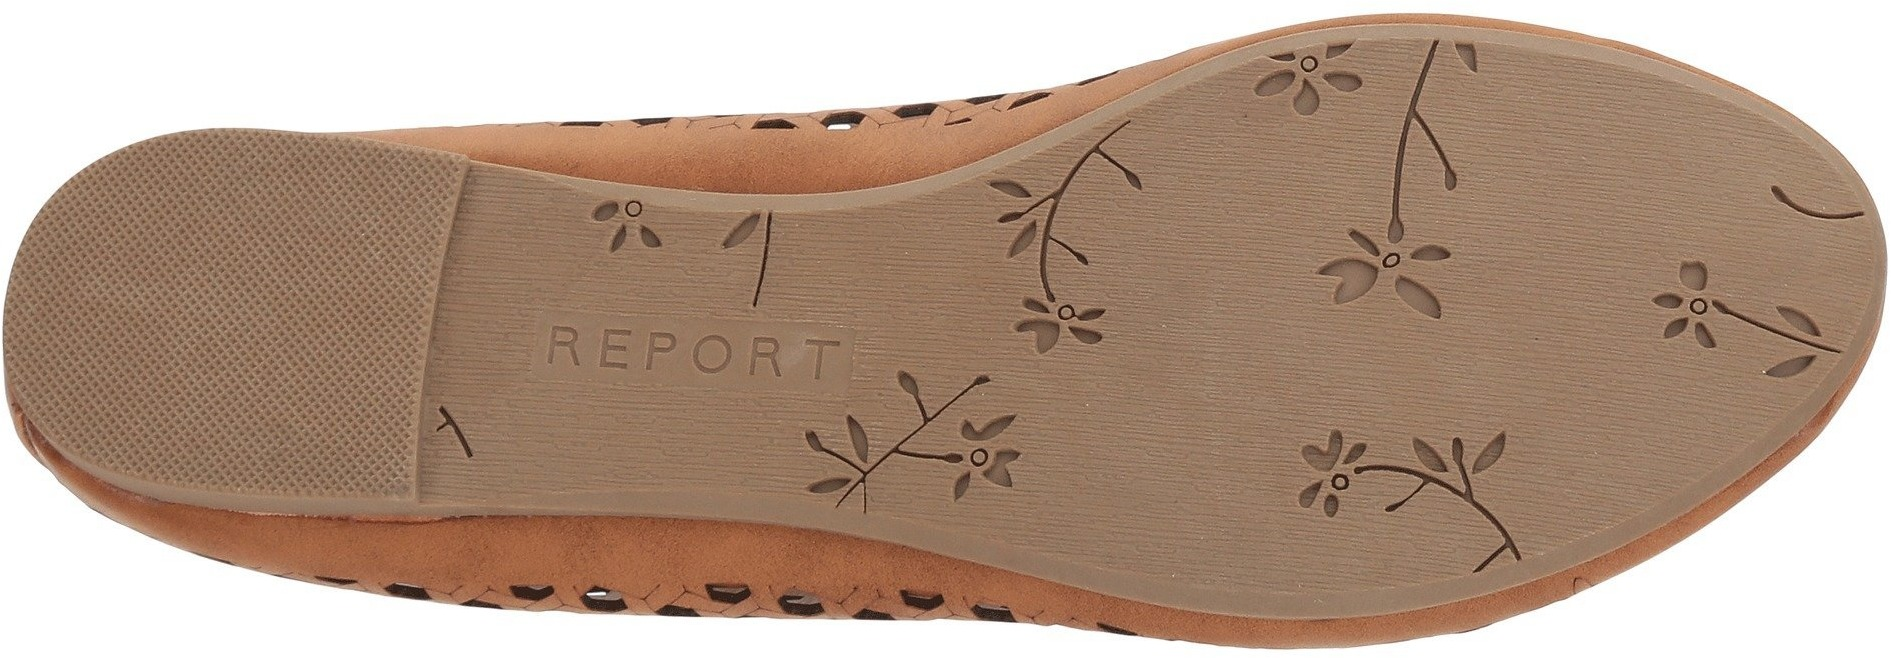circle: (523, 298, 866, 421), (1292, 417, 1456, 580), (1298, 198, 1454, 348)
exclude: (415, 135, 865, 562)
line: (1292, 417, 1456, 580)
other: (1049, 362, 1276, 584), (1459, 83, 1678, 269), (222, 147, 427, 334), (22, 246, 222, 424), (1499, 335, 1684, 505), (1108, 187, 1280, 359), (234, 337, 394, 487), (1298, 198, 1454, 348)
quad: (523, 298, 866, 421)
text: (523, 298, 866, 421)
